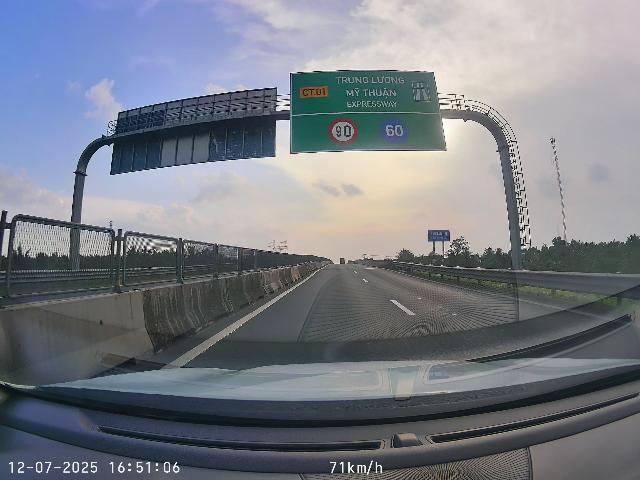127-toc-do-toi-da-90: (328, 117, 358, 145)
306-toc-do-toi-thieu-60: (380, 118, 409, 144)
437-bat-dau-duong-cao-toc: (412, 81, 431, 102)
